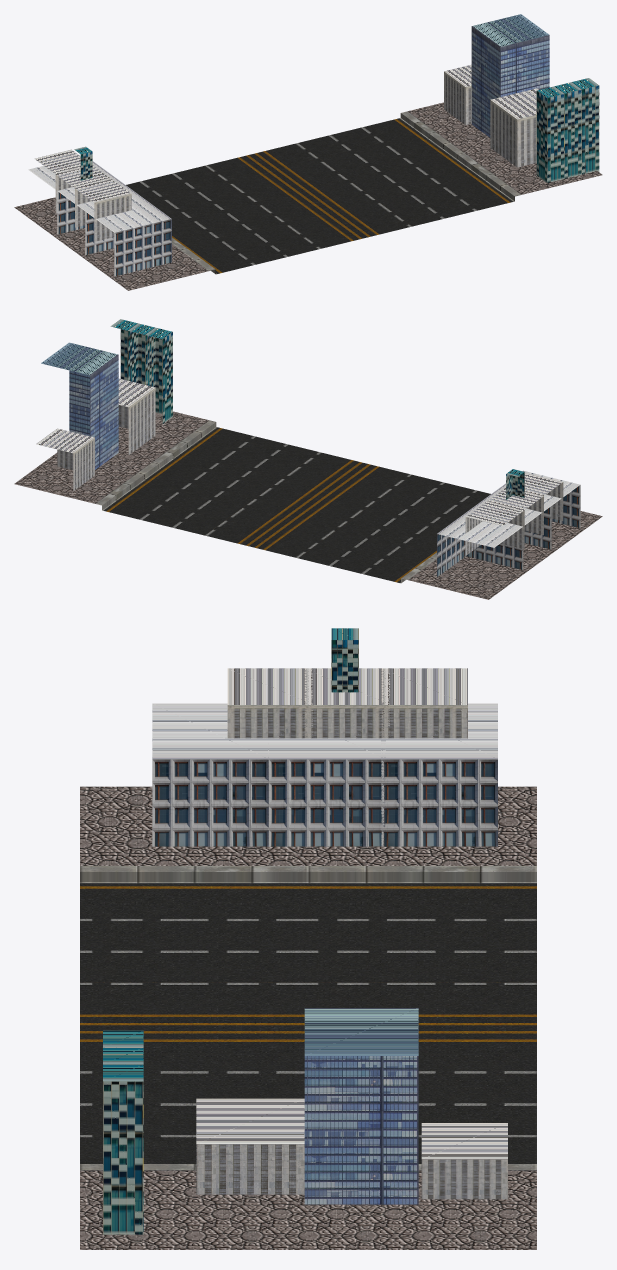
File: CityBlock4.obj
The picture shows the model from 3 angles, top to bottom: view 1: azimuth 30°, elevation 25°; view 2: azimuth 150°, elevation 25°; view 3: azimuth 270°, elevation 25°; orthographic projection. The views are drawn at different scales.
Visible parts, largest first — view 1: Floor, Right, Left; view 2: Floor, Right, Left; view 3: Floor, Left, Right.
Boxes of the visible parts, x1,y1,x2,y2 form: Floor: [14, 102, 602, 290]; Right: [444, 14, 599, 182]; Left: [28, 146, 171, 276]; Floor: [14, 411, 602, 599]; Right: [36, 319, 172, 490]; Left: [437, 469, 580, 577]; Floor: [80, 786, 536, 1249]; Left: [152, 628, 497, 846]; Right: [103, 1008, 507, 1234].
Bounding box in the file's own units: 48.29 × 9.98 × 20.
